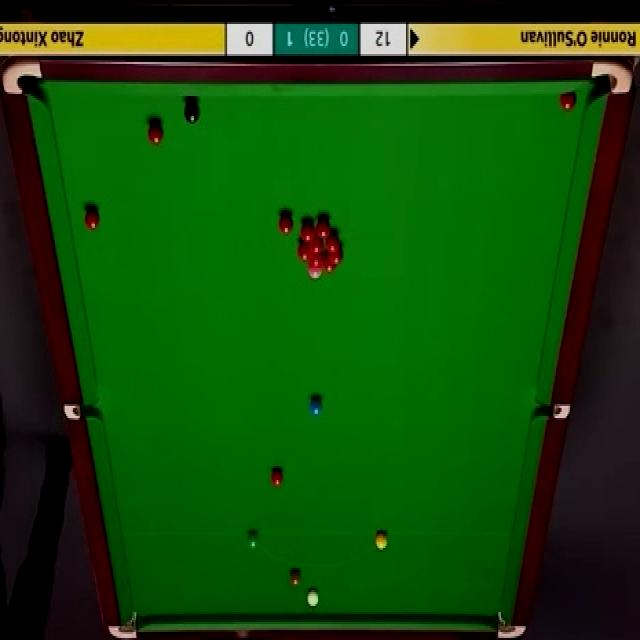black-ball: (183, 98, 200, 124)
blue-ball: (309, 394, 324, 418)
brown-ball: (289, 566, 302, 586)
green-ball: (245, 528, 261, 549)
pink-ball: (308, 268, 322, 279)
red-ball: (146, 120, 164, 145), (269, 466, 285, 489), (84, 207, 100, 230), (301, 220, 316, 242), (278, 212, 293, 233), (560, 92, 575, 112), (316, 216, 329, 238), (326, 231, 339, 252), (327, 248, 343, 265), (322, 253, 336, 271), (298, 242, 311, 260), (312, 253, 324, 269), (309, 239, 322, 253)
white-ball: (306, 586, 320, 606)
yellow-ball: (375, 530, 388, 550)
